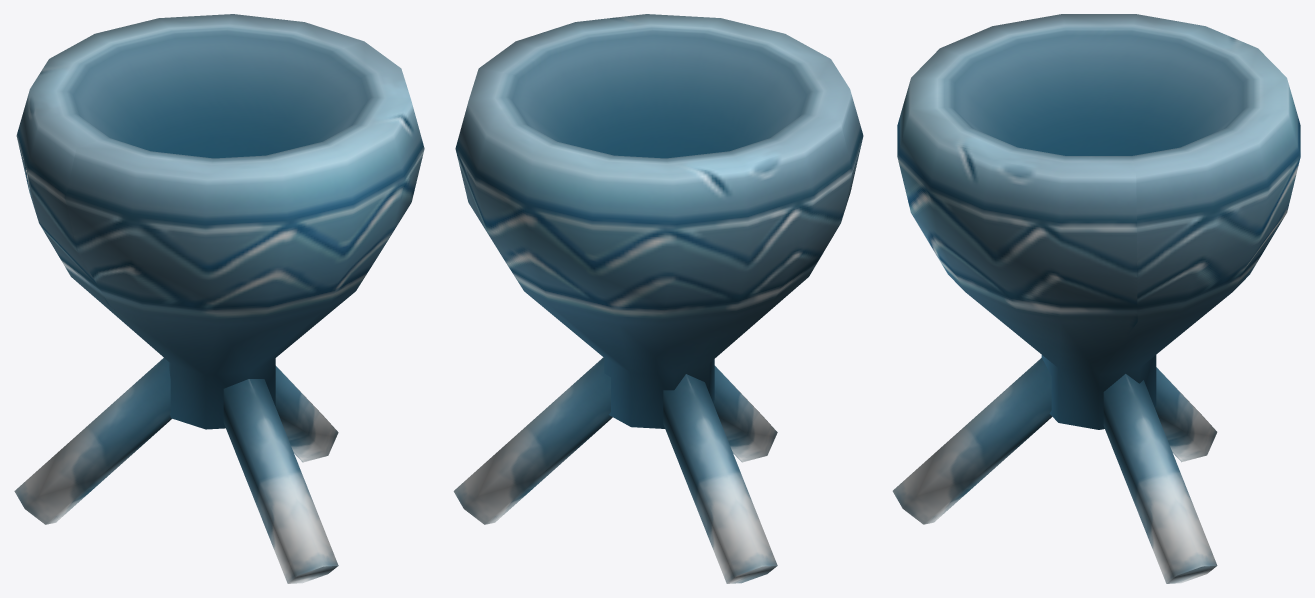
The model's file is Ice_brazier_01.fbx.
3 views of the same model, side by side, from view 1: azimuth 30°, elevation 25°; view 2: azimuth 150°, elevation 25°; view 3: azimuth 270°, elevation 25° (orthographic).
Visible parts, largest first — view 1: Ice_brazier_01; view 2: Ice_brazier_01; view 3: Ice_brazier_01.
Boxes of the visible parts, x1,y1,x2,y2 form: Ice_brazier_01: [14, 14, 424, 583]; Ice_brazier_01: [453, 14, 863, 583]; Ice_brazier_01: [892, 14, 1300, 583].
Bounding box in the file's own units: 83.28 × 97.87 × 84.32.
